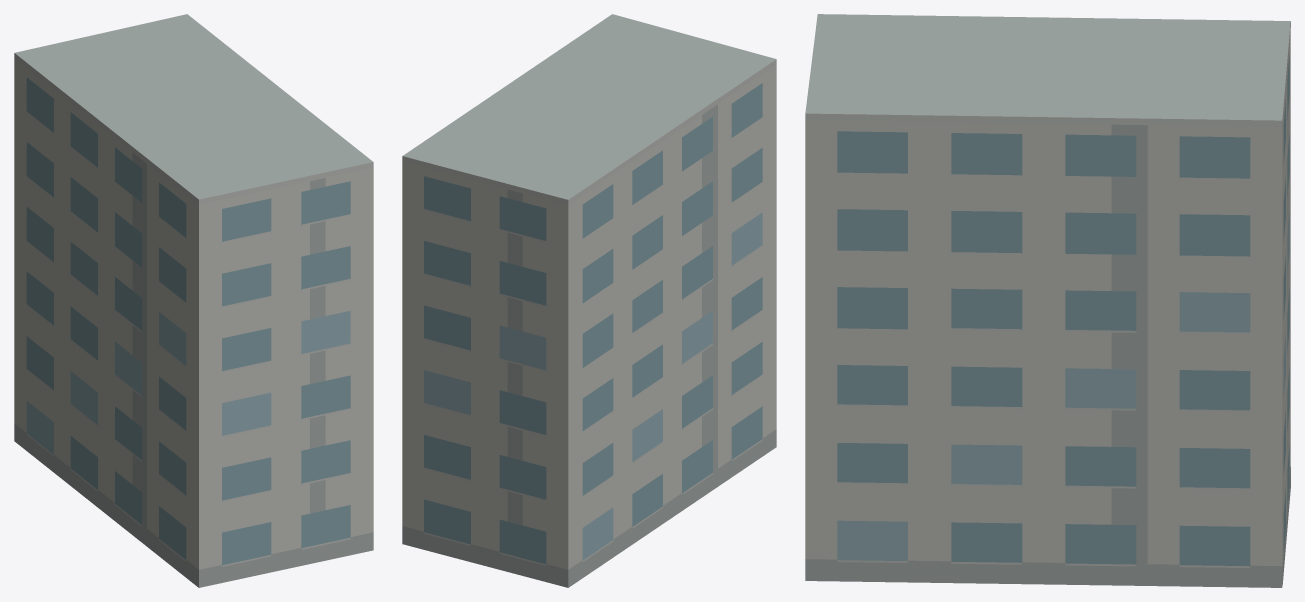
File: survey-upis-32874696.glb
3 renders of one model, left to right at view 1: azimuth 30°, elevation 25°; view 2: azimuth 150°, elevation 25°; view 3: azimuth 270°, elevation 25°, orthographic. The views are drawn at different scales.
Visible parts, largest first — view 1: survey-upis-32874696.tmp; view 2: survey-upis-32874696.tmp; view 3: survey-upis-32874696.tmp.
Boxes of the visible parts, x1=… form: survey-upis-32874696.tmp: x1=14, y1=14, x2=373, y2=587; survey-upis-32874696.tmp: x1=402, y1=14, x2=776, y2=587; survey-upis-32874696.tmp: x1=805, y1=14, x2=1290, y2=587.
Size of the model in its own units: 8.42 by 17.2 by 16.2.
